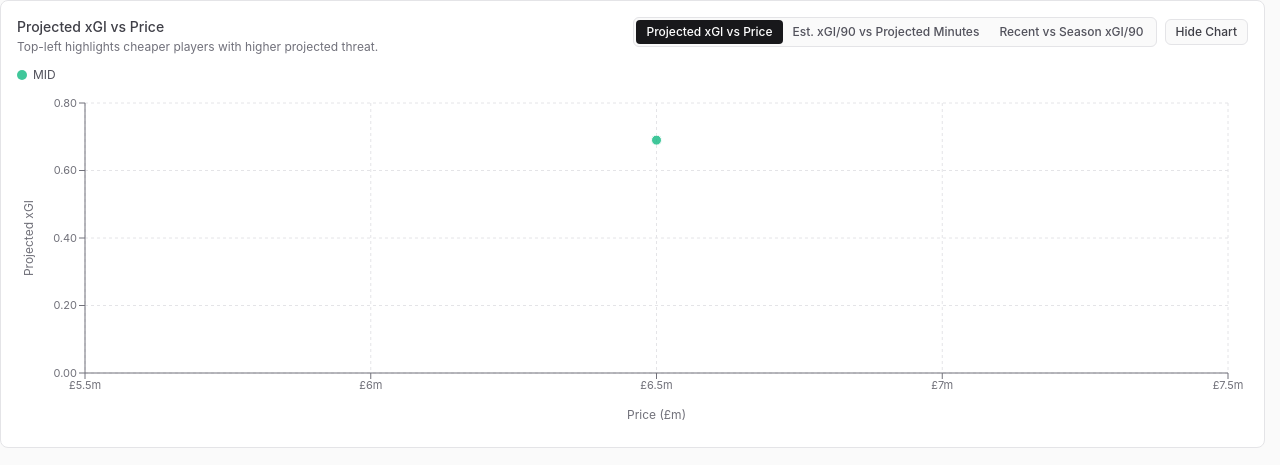
Test: handles single-point geometry cleanly across all three modes
Click the button "Est. xGI/90 vs Projected Minutes" at x=886, y=32, box [783,20,989,44]
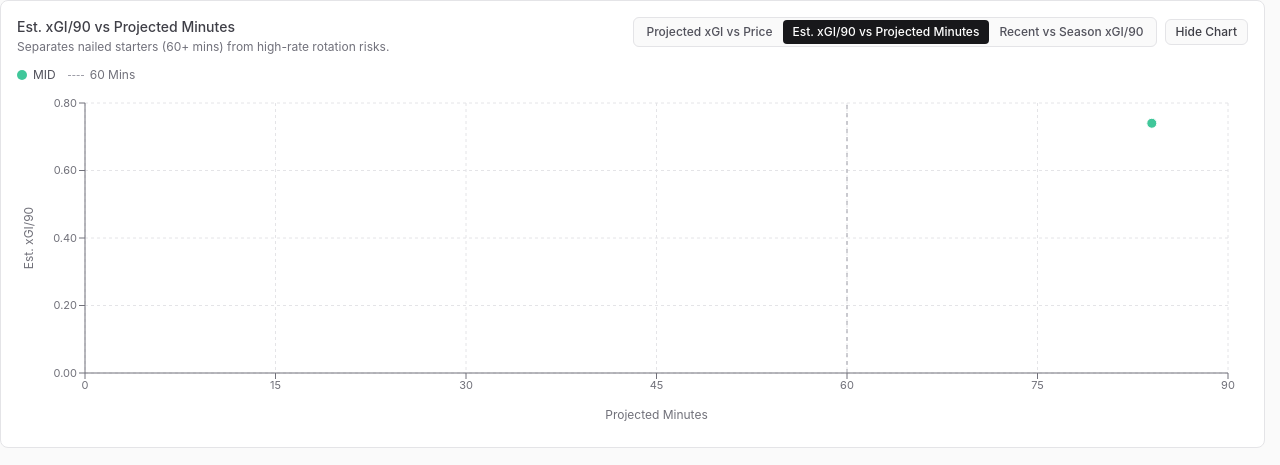
Now the text "60 Mins" is shown, box [90,67,135,82]
Note: Swing mode keeps the equal-rate diagonal.
Click the button "Recent vs Season xGI/90" at x=1072, y=32, box [989,20,1154,44]
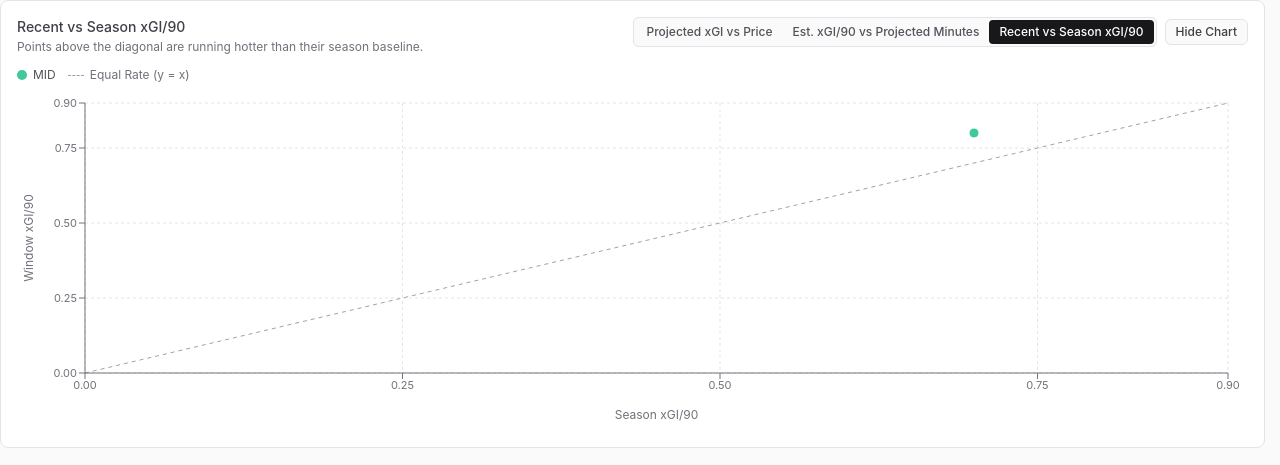
Now the text "Equal Rate (y = x)" is shown, box [90,67,190,82]
